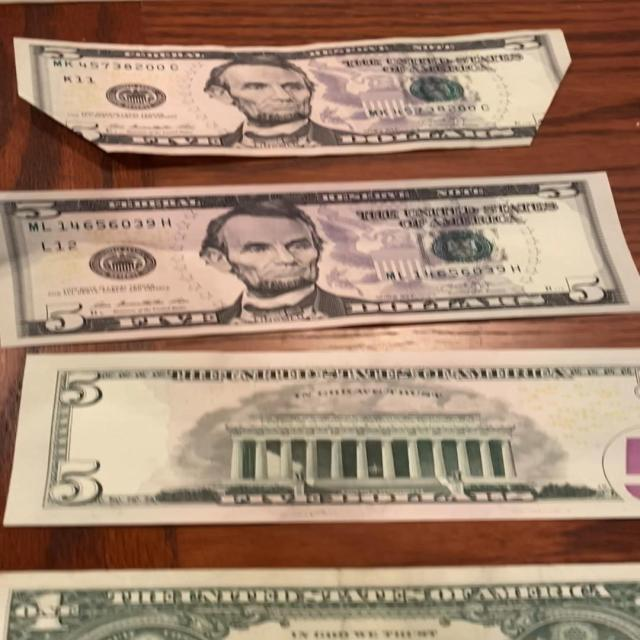1-Back: (0, 561, 640, 640)
5-Back: (0, 344, 640, 536)
5-Front: (0, 171, 639, 361), (7, 21, 592, 163)
